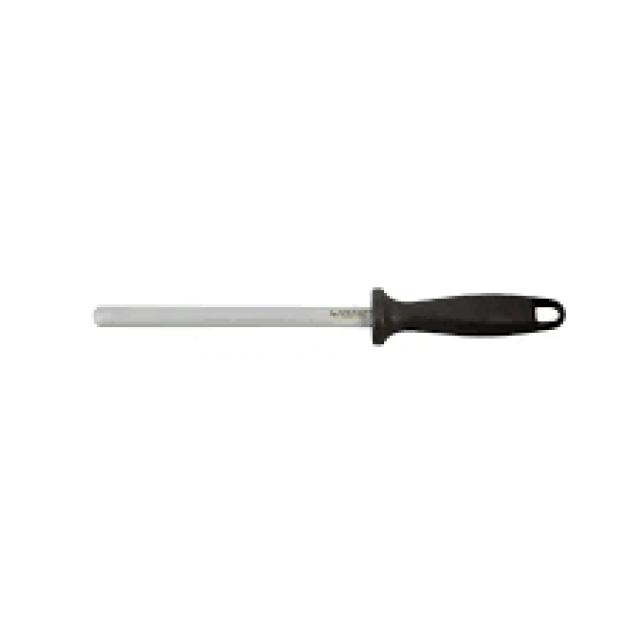Knife: (91, 285, 563, 344)
